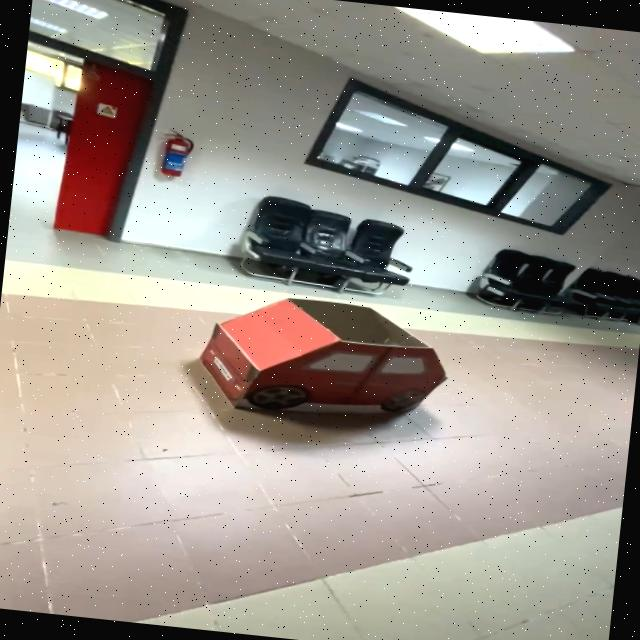red_car: (168, 264, 534, 459)
